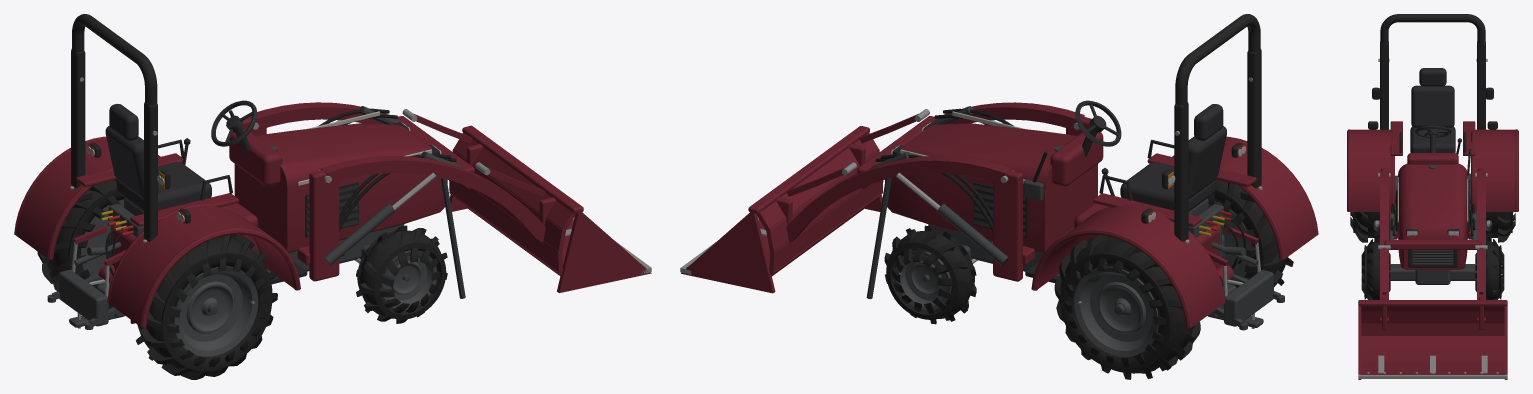
The model's file is SM_Prop_farm_tractor_compact_1.glb.
The picture shows the model from 3 angles, left to right: view 1: azimuth 30°, elevation 25°; view 2: azimuth 150°, elevation 25°; view 3: azimuth 270°, elevation 25°; orthographic projection. The views are drawn at different scales.
Visible parts, largest first — view 1: SM_Prop_farm_tractor_compact_1; view 2: SM_Prop_farm_tractor_compact_1; view 3: SM_Prop_farm_tractor_compact_1.
Part boxes in pixels (x1,y1,x2,y2): SM_Prop_farm_tractor_compact_1: (14,14,651,379); SM_Prop_farm_tractor_compact_1: (680,14,1318,379); SM_Prop_farm_tractor_compact_1: (1347,14,1518,379).
Size of the model in its own units: 3.94 by 2.24 by 1.66.
